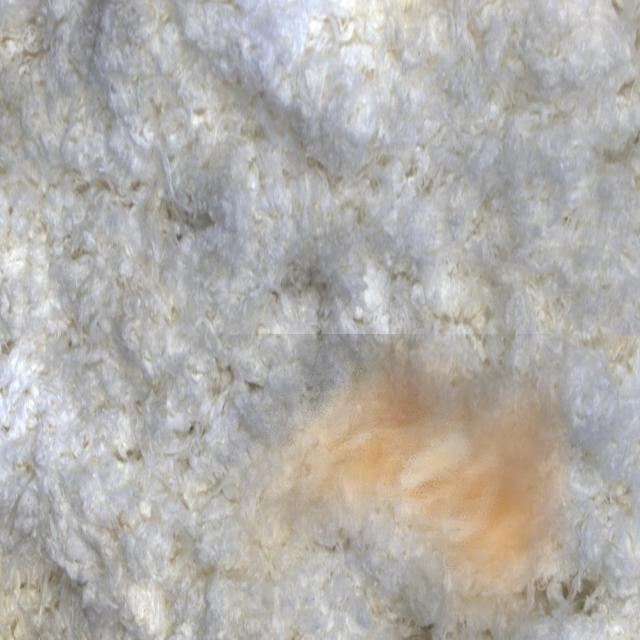dust: (228, 334, 570, 640)
